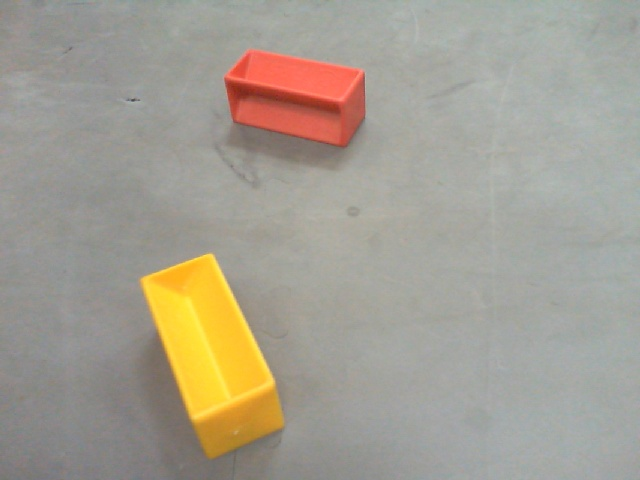RedSample: (223, 45, 368, 149)
YellowSample: (140, 252, 282, 458)
